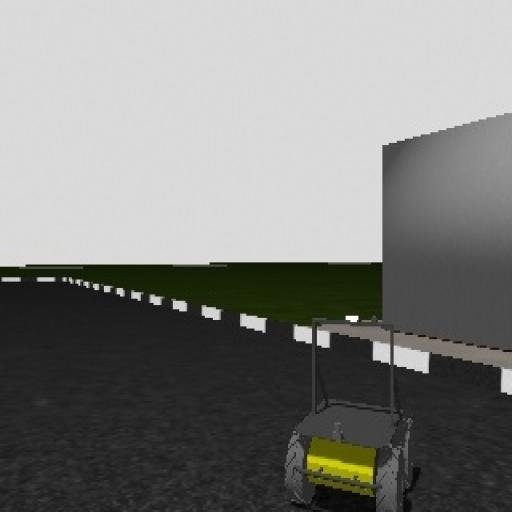huskya200: (269, 314, 421, 512)
